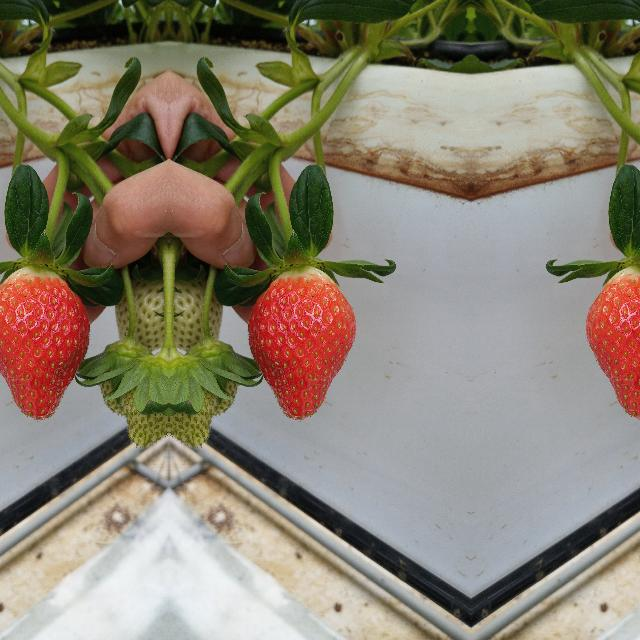Health_100: (247, 264, 356, 422), (0, 264, 89, 422), (585, 264, 640, 422)
Health_25: (168, 369, 236, 449), (100, 369, 168, 449), (168, 270, 222, 364), (114, 270, 168, 364), (184, 336, 242, 410), (94, 336, 152, 410)
